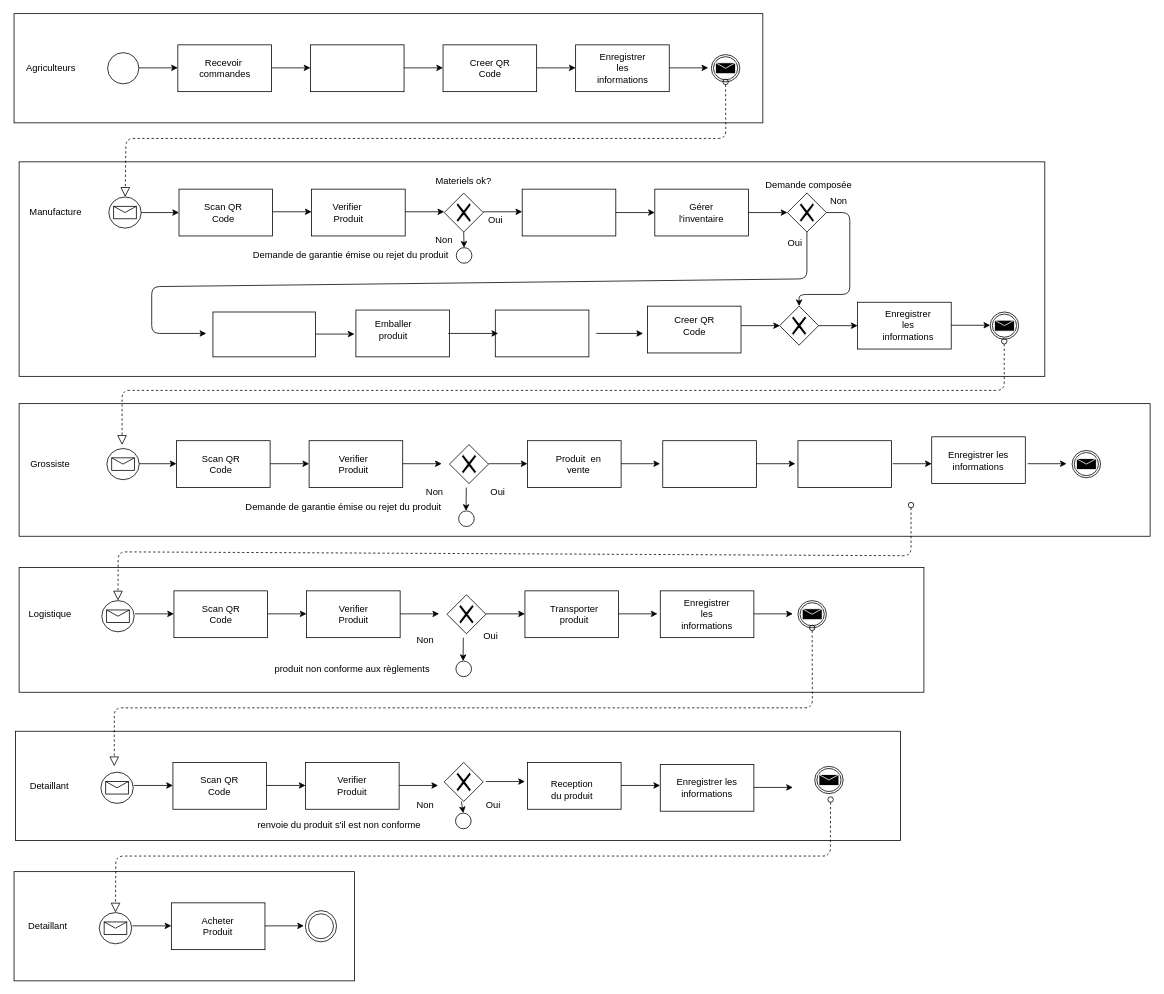
Image size: 1164x994. Some labels were removed from this diagram. The shapes that lost their labels are listed below. From the top down, each one's centre as x and y in pixels, then its label:
point (357, 68): Matieres Premieres
point (568, 212): Stocker produit
point (264, 334): Transformer le produit
point (542, 333): vendre produit
point (709, 464): Produit vendu
point (844, 464): Produit expédié
